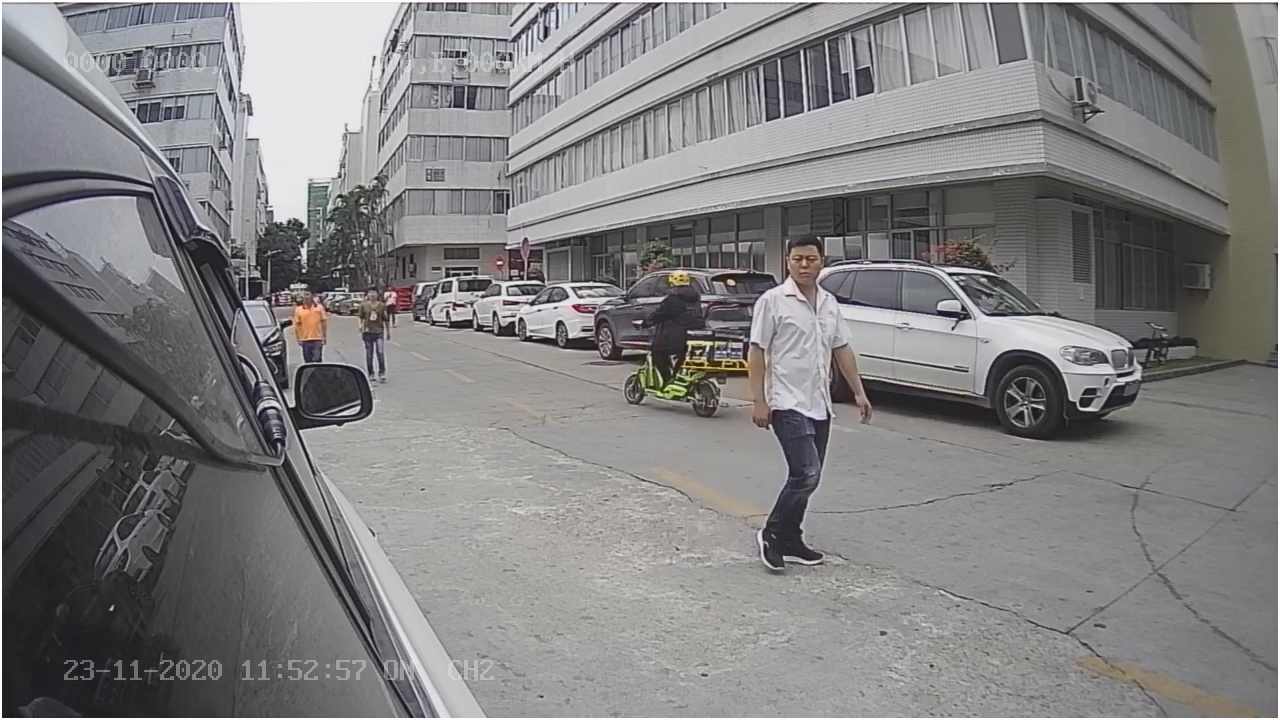person: (750, 239, 858, 568)
